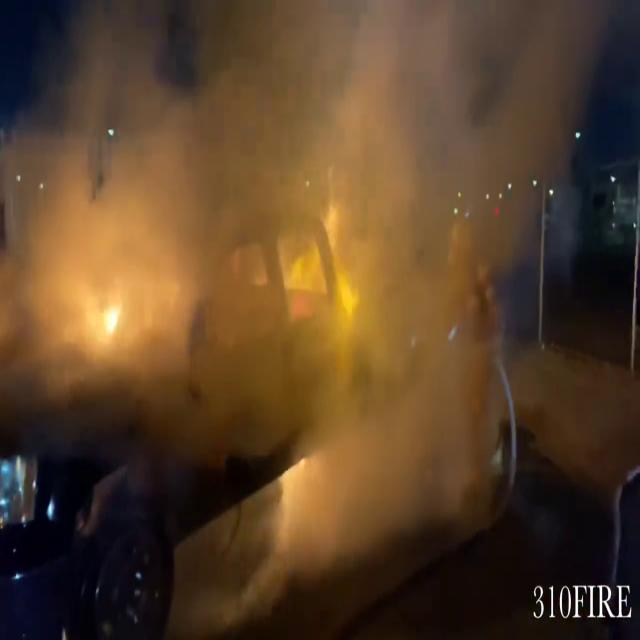Smoke: (0, 0, 580, 561)
